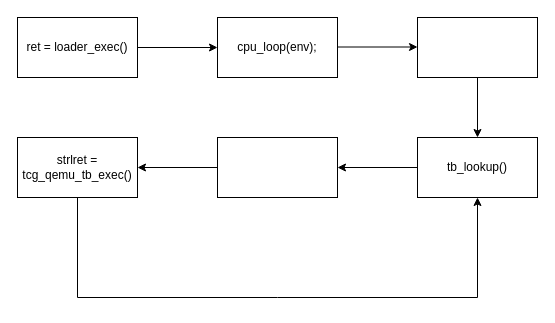
This 555x323 diagram has some shape labels left out. Here are the shapes that lost their labels. From the top down, the centre of each, then its label:
the point at 477,47: cpu_exec(cs)
the point at 277,167: tb = tb_gen_code()
